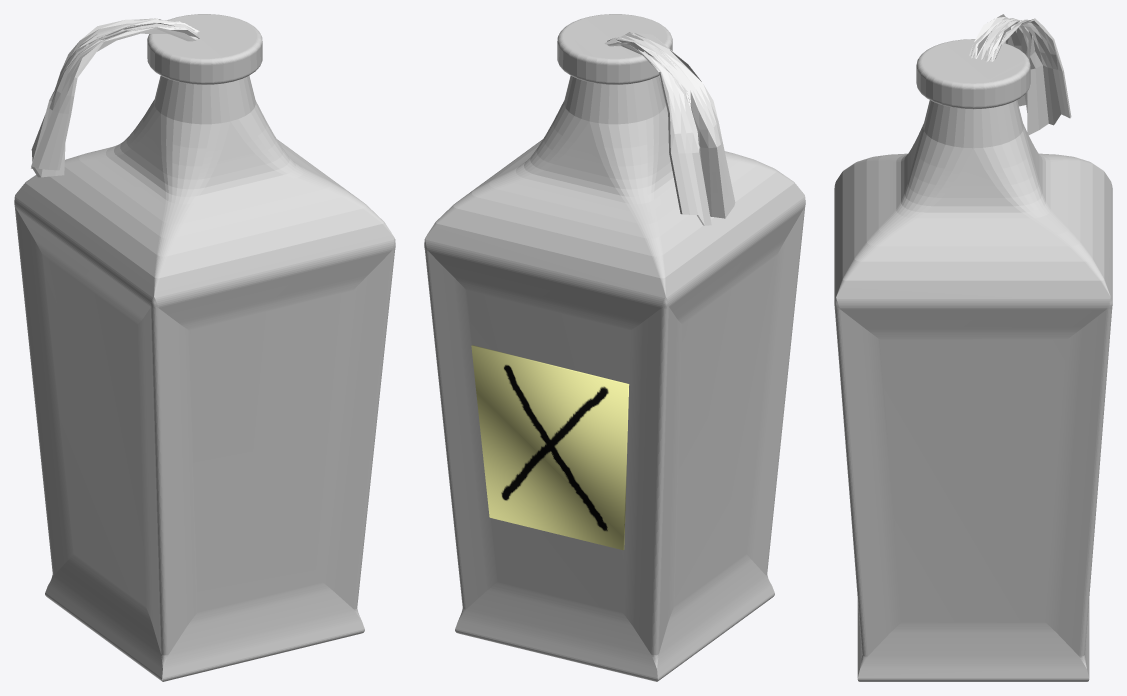
File: Botella_X_Molotov.fbx
3 renders of one model, left to right at view 1: azimuth 30°, elevation 25°; view 2: azimuth 150°, elevation 25°; view 3: azimuth 270°, elevation 25°, orthographic.
Visible parts, largest first — view 1: Botella_Bomba.002, mecha.002; view 2: Botella_Bomba.002, pegatina.001, mecha.002; view 3: Botella_Bomba.002, mecha.002.
Part boxes in pixels (x1,y1,x2,y2): Botella_Bomba.002: [14, 14, 395, 681]; mecha.002: [31, 18, 199, 177]; Botella_Bomba.002: [424, 14, 805, 681]; pegatina.001: [471, 345, 629, 550]; mecha.002: [604, 32, 735, 225]; Botella_Bomba.002: [834, 39, 1112, 681]; mecha.002: [969, 14, 1071, 134].
Bounding box in the file's own units: 10.64 × 22.57 × 9.66.
